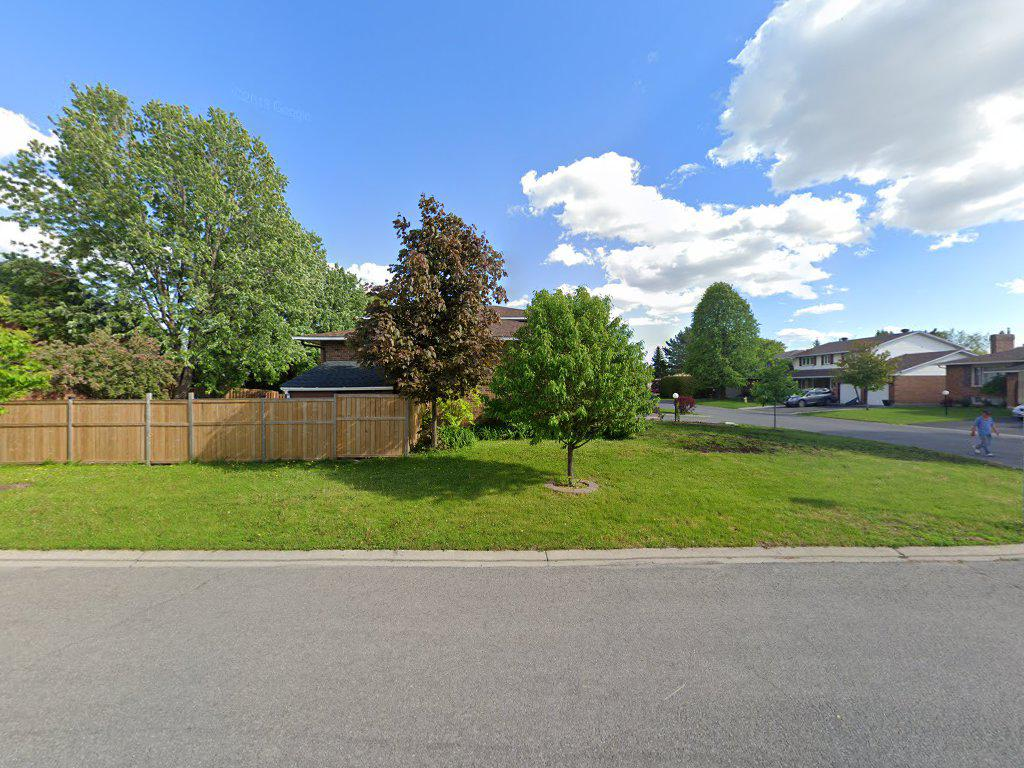trunk: (566, 425, 577, 485)
